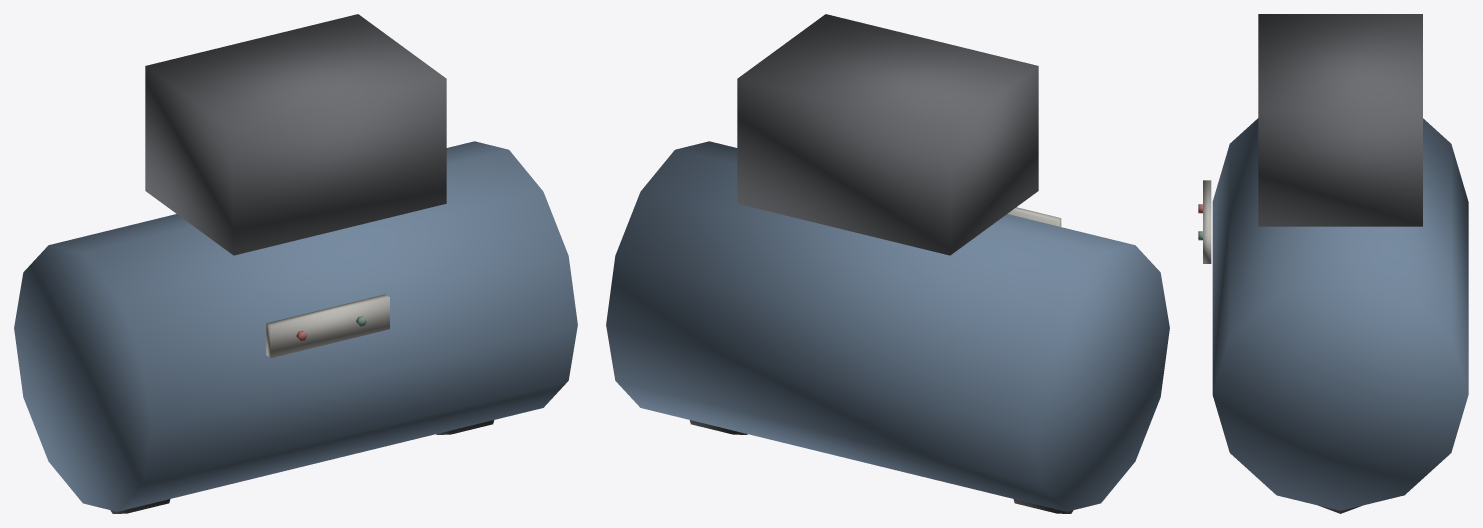
Rendered from air_compressor.glb.
3 renders of one model, left to right at view 1: azimuth 30°, elevation 25°; view 2: azimuth 150°, elevation 25°; view 3: azimuth 270°, elevation 25°, orthographic. The views are drawn at different scales.
Visible parts, largest first — view 1: world; view 2: world; view 3: world.
Boxes of the visible parts, left/top/right/bottom form: world: left=14, top=14, right=577, bottom=513; world: left=606, top=14, right=1169, bottom=513; world: left=1198, top=14, right=1468, bottom=513.
Bounding box in the file's own units: 1 × 0.89 × 0.591.
